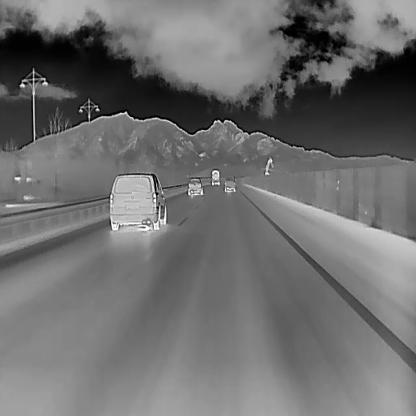car: (110, 172, 166, 229), (186, 175, 202, 196), (223, 174, 236, 192)
truck: (210, 167, 220, 185)
